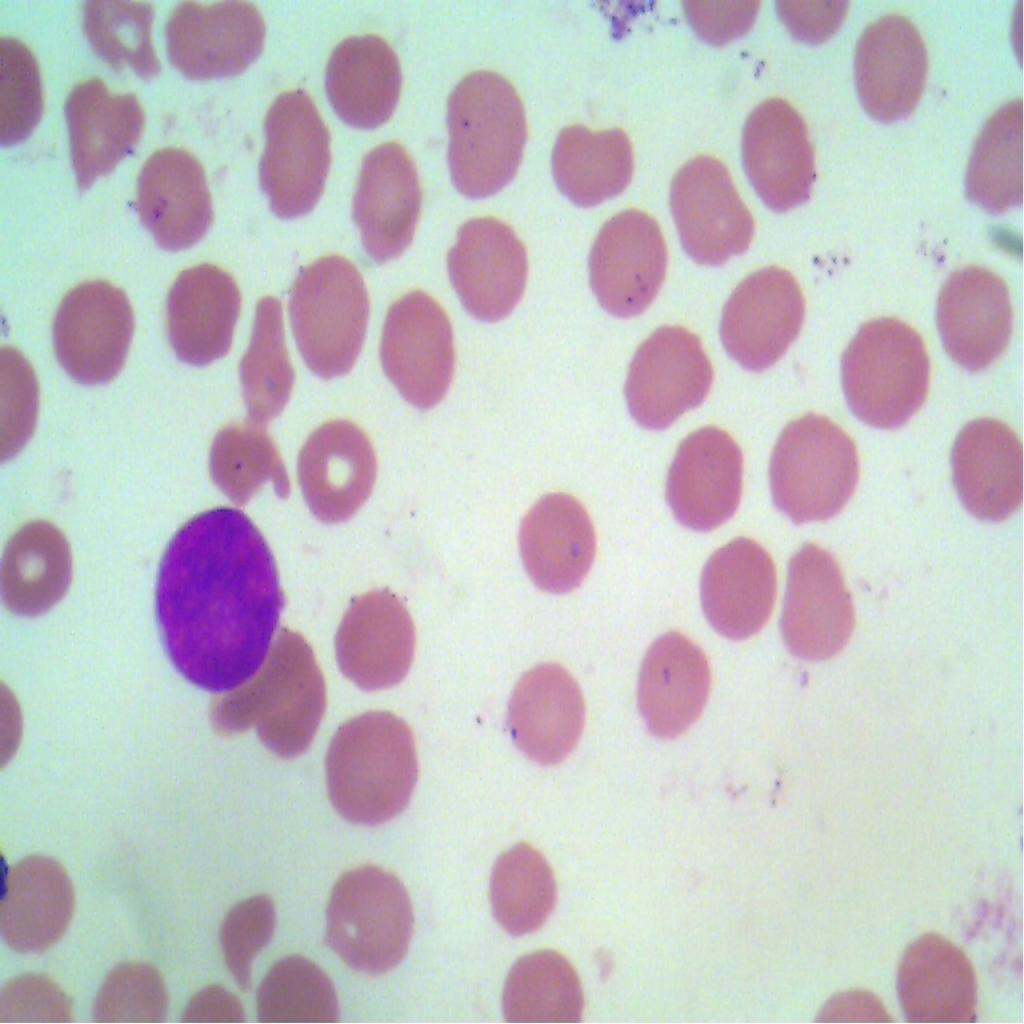Eritrosit: (250, 82, 344, 231), (315, 705, 429, 826), (769, 408, 873, 534), (719, 244, 813, 382), (831, 315, 939, 431), (492, 655, 590, 782), (434, 65, 528, 197), (542, 105, 660, 210), (374, 285, 463, 424), (284, 251, 376, 385), (238, 622, 328, 757), (158, 254, 250, 384), (43, 271, 143, 390), (770, 538, 862, 664), (58, 68, 146, 198), (623, 317, 716, 440), (126, 145, 224, 261), (933, 406, 1023, 532), (322, 856, 418, 970), (516, 482, 601, 608), (588, 205, 679, 322), (931, 264, 1023, 378), (353, 140, 436, 266), (319, 20, 414, 130), (653, 424, 749, 531), (891, 917, 986, 1023), (58, 0, 170, 89), (336, 569, 419, 688), (693, 532, 783, 641), (455, 218, 535, 340), (293, 412, 381, 522), (666, 161, 756, 268), (736, 95, 821, 207), (0, 840, 83, 954), (626, 628, 709, 740), (161, 0, 268, 84), (199, 405, 283, 509), (234, 294, 302, 422), (494, 942, 599, 1023), (963, 95, 1023, 234), (0, 525, 82, 621), (860, 14, 930, 125), (486, 832, 560, 932), (250, 947, 338, 1023), (214, 881, 278, 975)
Limfoblast: (155, 500, 283, 692)
